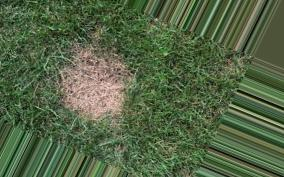patch: (65, 56, 119, 120)
